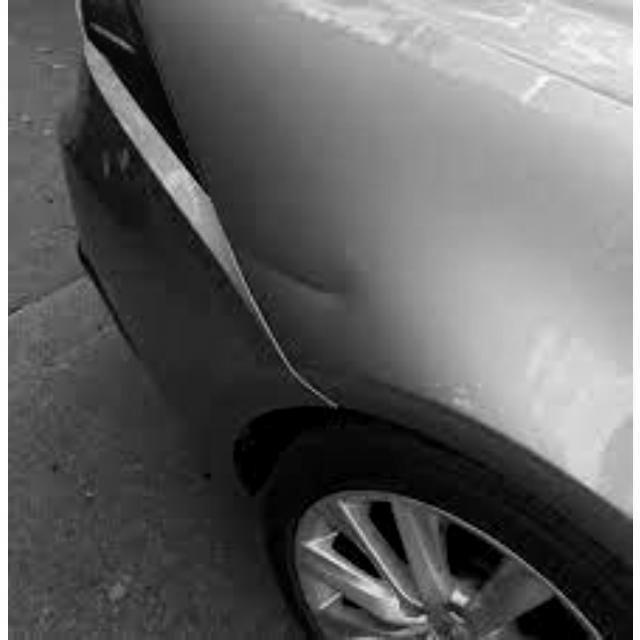quaterpanel-dent: (216, 49, 630, 528)
